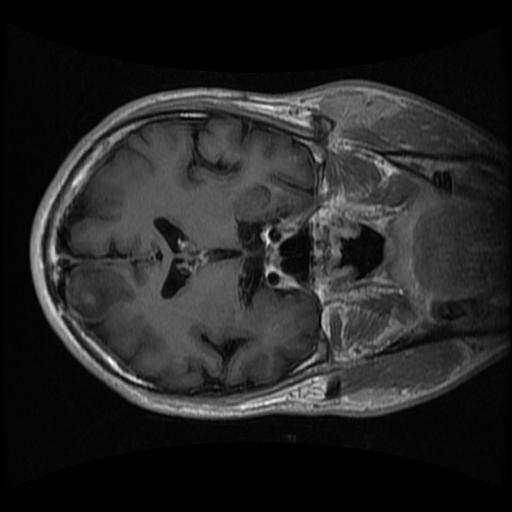glioma: (64, 263, 135, 319)
